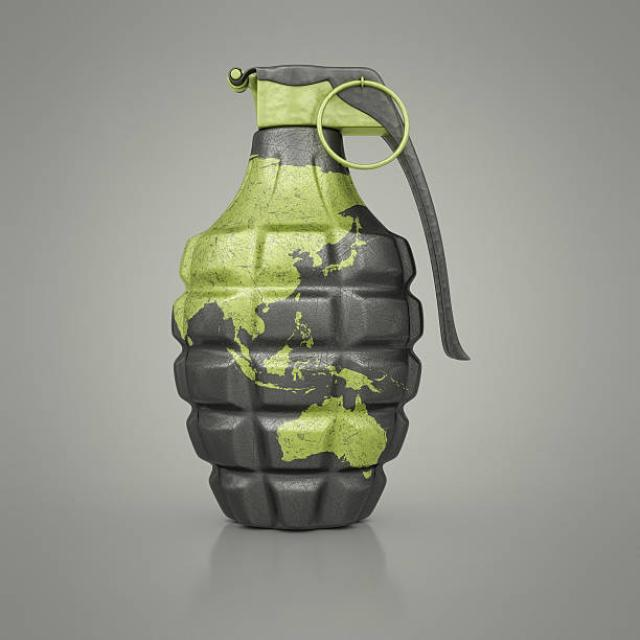grenade: (164, 47, 479, 548)
